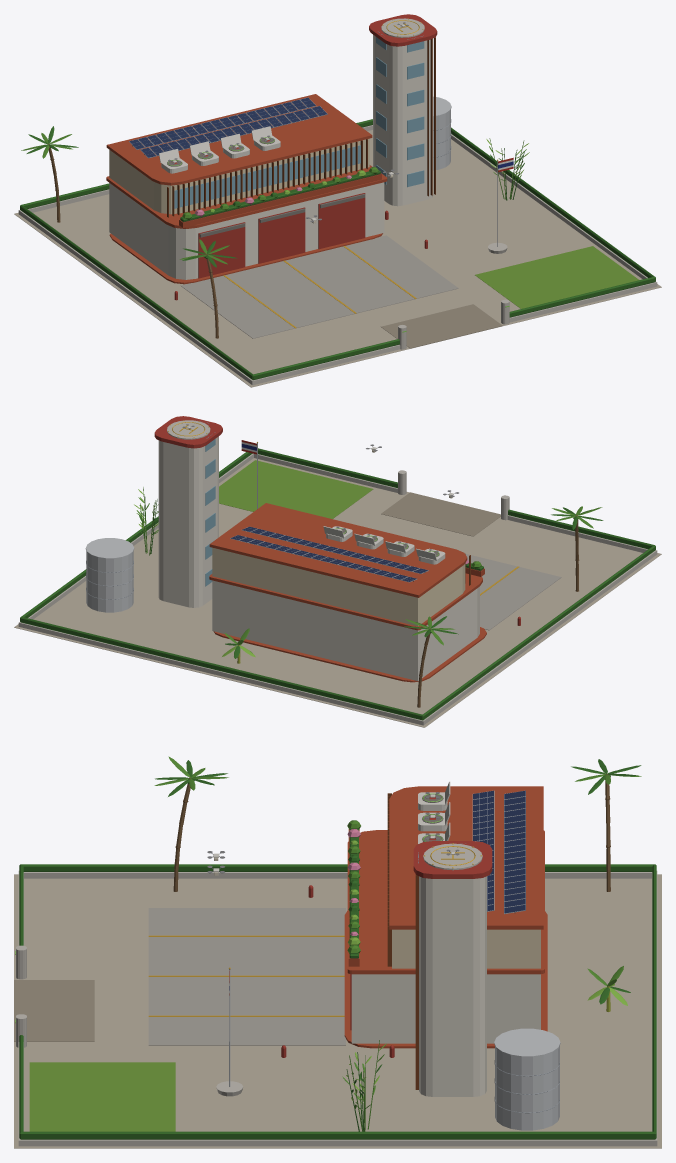
File: fire.glb
3 views of the same model, one above another, from view 1: azimuth 30°, elevation 25°; view 2: azimuth 150°, elevation 25°; view 3: azimuth 270°, elevation 25° (orthographic). The views are drawn at different scales.
Parts seen in each view (by area): view 1: body; view 2: body; view 3: body.
Boxes of the visible parts, x1,y1,x2,y2 form: body: (14,14,661,387); body: (14,416,661,727); body: (14,756,661,1148).
Bounding box in the file's own units: 49.19 × 18.86 × 47.9.
